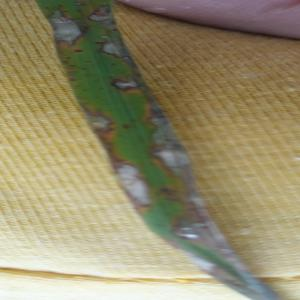1 RiceBlast: (166, 185, 256, 287), (141, 92, 195, 181), (99, 152, 151, 209), (76, 101, 126, 148), (41, 6, 92, 48), (95, 29, 132, 67), (103, 71, 149, 98), (88, 2, 131, 30)
